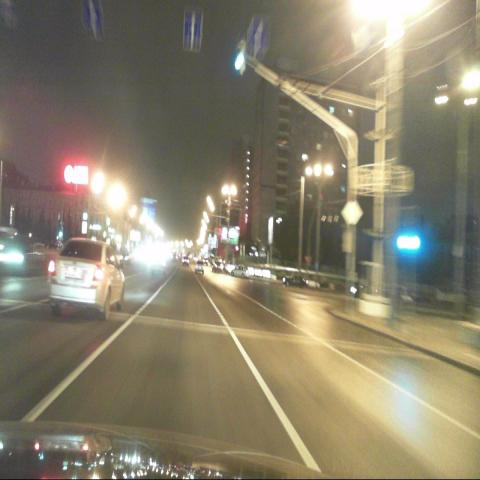5_15_2: (184, 11, 204, 46), (252, 17, 270, 52)
